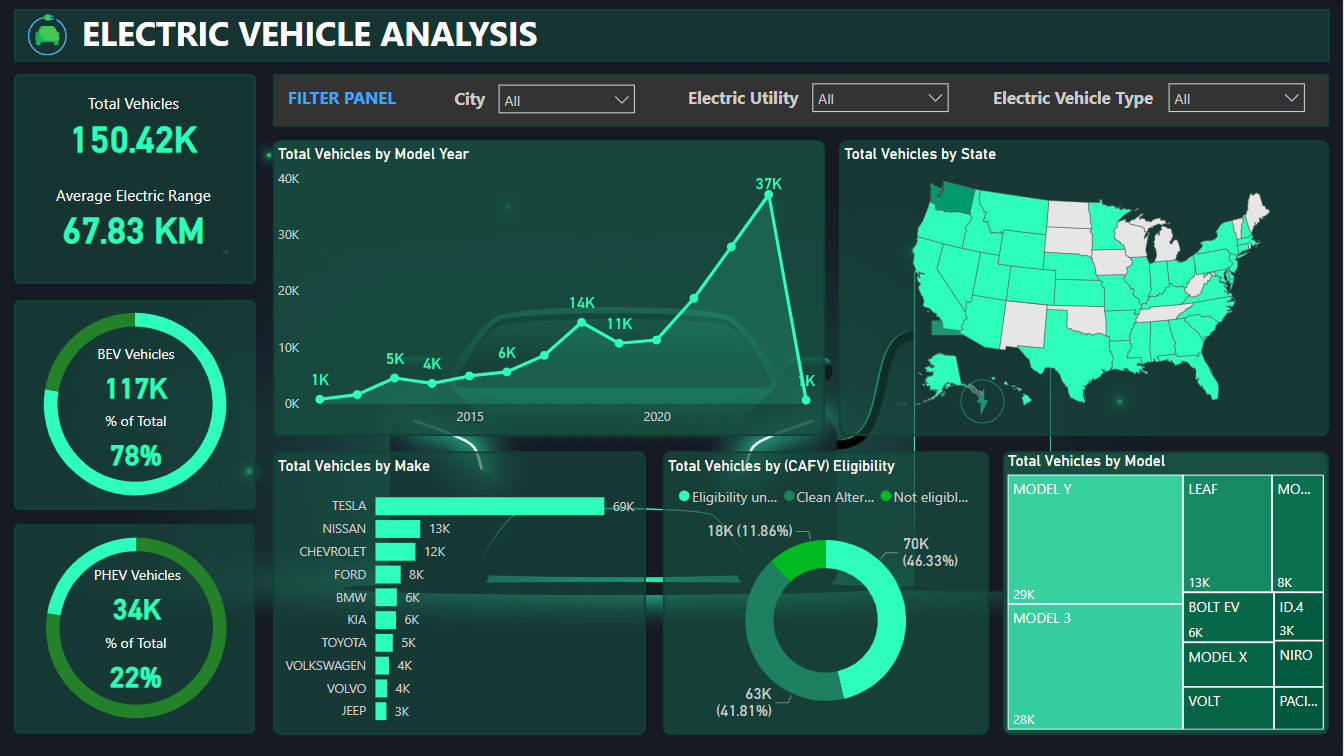

Layout of this report page (visuals, bound fields, positions):
{"tool":"powerbi","page":{"name":"EVA","canvas":[1280,720],"ordinal":0},"visuals":[{"type":"shape","box":[13.7,8.2,1252.8,50.8],"z":0},{"type":"textbox","box":[73.8,4.8,542.7,58.3],"z":1000},{"type":"shape","box":[13.8,70.3,230.5,200.3],"z":2000},{"type":"card","title":"Total Vehicles","fields":{"Values":["Electric_Vehicle_Population_Data.Total Vehicles"]},"box":[28.5,88.1,199,64.5],"z":3000},{"type":"card","title":"Average Electric Range","fields":{"Values":["Electric_Vehicle_Population_Data.Avg Range"]},"box":[28.5,174.6,199,64.5],"z":4000},{"type":"shape","box":[13.8,285.7,230.5,200.3],"z":5000},{"type":"shape","box":[14.3,498.6,229.7,199.9],"z":6000},{"type":"donutChart","fields":{"Category":["Electric_Vehicle_Population_Data.Electric Vehicle Type"],"Y":["Electric_Vehicle_Population_Data.Total Vehicles"]},"box":[0,271.3,259.4,227.3],"z":7000},{"type":"card","title":"BEV Vehicles","fields":{"Values":["Electric_Vehicle_Population_Data.BEV Vehicles"]},"box":[86.1,327.3,89.2,64.5],"z":8000},{"type":"card","title":"% of Total","fields":{"Values":["Electric_Vehicle_Population_Data.% of BEV"]},"box":[86.1,391.8,89.2,64.5],"z":9000},{"type":"donutChart","fields":{"Category":["Electric_Vehicle_Population_Data.Electric Vehicle Type"],"Y":["Electric_Vehicle_Population_Data.Total Vehicles"]},"box":[1.2,485.6,259.4,224.9],"z":10000},{"type":"card","title":"PHEV Vehicles","fields":{"Values":["Electric_Vehicle_Population_Data.PHEV Vehicles"]},"box":[82,537.6,98.8,64.5],"z":11000},{"type":"card","title":"% of Total","fields":{"Values":["Electric_Vehicle_Population_Data.% PHVE"]},"box":[86.1,602.1,89.2,64.5],"z":12000},{"type":"shape","box":[260.7,70,1005.8,50.8],"z":13000},{"type":"shape","box":[260.6,133.3,526,282],"z":14000},{"type":"areaChart","fields":{"Category":["Electric_Vehicle_Population_Data.Model Year"],"Y":["Electric_Vehicle_Population_Data.Total Vehicles"]},"box":[260.6,138,526,277.3],"z":15000},{"type":"shape","box":[799.7,133.3,466.5,282],"z":16000},{"type":"shapeMap","fields":{"Category":["Electric_Vehicle_Population_Data.State"],"Value":["Electric_Vehicle_Population_Data.Total Vehicles"]},"box":[800,138.6,466.6,264.8],"z":17000},{"type":"shape","box":[260.6,429.9,355.4,270.3],"z":18000},{"type":"barChart","fields":{"Category":["Electric_Vehicle_Population_Data.Make"],"Y":["Electric_Vehicle_Population_Data.Total Vehicles"]},"box":[260.5,434.3,355.8,265.4],"z":19000},{"type":"shape","box":[631.8,429.6,310.6,270.1],"z":20000},{"type":"donutChart","title":"Total Vehicles by (CAFV) Eligibility","fields":{"Category":["Electric_Vehicle_Population_Data.Clean Alternative Fuel Vehicle (CAFV) Eligibility"],"Y":["Electric_Vehicle_Population_Data.Total Vehicles"]},"box":[631.8,434.3,310.6,265.4],"z":21000},{"type":"shape","box":[955.5,429.6,310.6,270.1],"z":22000},{"type":"treemap","fields":{"Group":["Electric_Vehicle_Population_Data.Model"],"Values":["Electric_Vehicle_Population_Data.Total Vehicles"]},"box":[955.5,429.6,310.6,270.1],"z":23000},{"type":"textbox","box":[270.1,76.2,148.8,38.1],"z":24000},{"type":"slicer","fields":{"Values":["Electric_Vehicle_Population_Data.City"]},"box":[465.8,70,150,44],"z":25000},{"type":"textbox","box":[428.4,77.4,48.8,36.9],"z":26000},{"type":"slicer","fields":{"Values":["Electric_Vehicle_Population_Data.Electric Utility"]},"box":[764.5,68.8,150,46.4],"z":27000},{"type":"textbox","box":[651,76.2,135.7,38.1],"z":28000},{"type":"slicer","fields":{"Values":["Electric_Vehicle_Population_Data.Electric Vehicle Type"]},"box":[1103.2,68.8,150,46.4],"z":29000},{"type":"textbox","box":[941.4,76.2,177.3,38.1],"z":30000},{"type":"image","box":[21.4,8.3,48.8,48.8],"z":31000}]}

Visuals, with their boxes in screenshot pixels (x1, y1, x2, y2), scaled from the page's 1280x720 canvas onto the 1344x756 screenshot:
shape: pyautogui.locateOnScreen(14, 9, 1330, 62)
textbox: pyautogui.locateOnScreen(77, 5, 647, 66)
shape: pyautogui.locateOnScreen(14, 74, 257, 284)
"Total Vehicles" card: pyautogui.locateOnScreen(30, 93, 239, 160)
"Average Electric Range" card: pyautogui.locateOnScreen(30, 183, 239, 251)
shape: pyautogui.locateOnScreen(14, 300, 257, 510)
shape: pyautogui.locateOnScreen(15, 524, 256, 733)
donutChart - Electric_Vehicle_Population_Data.Electric Vehicle Type x Electric_Vehicle_Population_Data.Total Vehicles: pyautogui.locateOnScreen(0, 285, 272, 524)
"BEV Vehicles" card: pyautogui.locateOnScreen(90, 344, 184, 411)
"% of Total" card: pyautogui.locateOnScreen(90, 411, 184, 479)
donutChart - Electric_Vehicle_Population_Data.Electric Vehicle Type x Electric_Vehicle_Population_Data.Total Vehicles: pyautogui.locateOnScreen(1, 510, 274, 746)
"PHEV Vehicles" card: pyautogui.locateOnScreen(86, 564, 190, 632)
"% of Total" card: pyautogui.locateOnScreen(90, 632, 184, 700)
shape: pyautogui.locateOnScreen(274, 74, 1330, 127)
shape: pyautogui.locateOnScreen(274, 140, 826, 436)
areaChart - Electric_Vehicle_Population_Data.Model Year x Electric_Vehicle_Population_Data.Total Vehicles: pyautogui.locateOnScreen(274, 145, 826, 436)
shape: pyautogui.locateOnScreen(840, 140, 1330, 436)
shapeMap - Electric_Vehicle_Population_Data.State x Electric_Vehicle_Population_Data.Total Vehicles: pyautogui.locateOnScreen(840, 146, 1330, 424)
shape: pyautogui.locateOnScreen(274, 451, 647, 735)
barChart - Electric_Vehicle_Population_Data.Make x Electric_Vehicle_Population_Data.Total Vehicles: pyautogui.locateOnScreen(274, 456, 647, 735)
shape: pyautogui.locateOnScreen(663, 451, 990, 735)
"Total Vehicles by (CAFV) Eligibility" donutChart: pyautogui.locateOnScreen(663, 456, 990, 735)
shape: pyautogui.locateOnScreen(1003, 451, 1329, 735)
treemap - Electric_Vehicle_Population_Data.Model x Electric_Vehicle_Population_Data.Total Vehicles: pyautogui.locateOnScreen(1003, 451, 1329, 735)
textbox: pyautogui.locateOnScreen(284, 80, 440, 120)
slicer - Electric_Vehicle_Population_Data.City: pyautogui.locateOnScreen(489, 74, 647, 120)
textbox: pyautogui.locateOnScreen(450, 81, 501, 120)
slicer - Electric_Vehicle_Population_Data.Electric Utility: pyautogui.locateOnScreen(803, 72, 960, 121)
textbox: pyautogui.locateOnScreen(684, 80, 826, 120)
slicer - Electric_Vehicle_Population_Data.Electric Vehicle Type: pyautogui.locateOnScreen(1158, 72, 1316, 121)
textbox: pyautogui.locateOnScreen(988, 80, 1175, 120)
image: pyautogui.locateOnScreen(22, 9, 74, 60)
